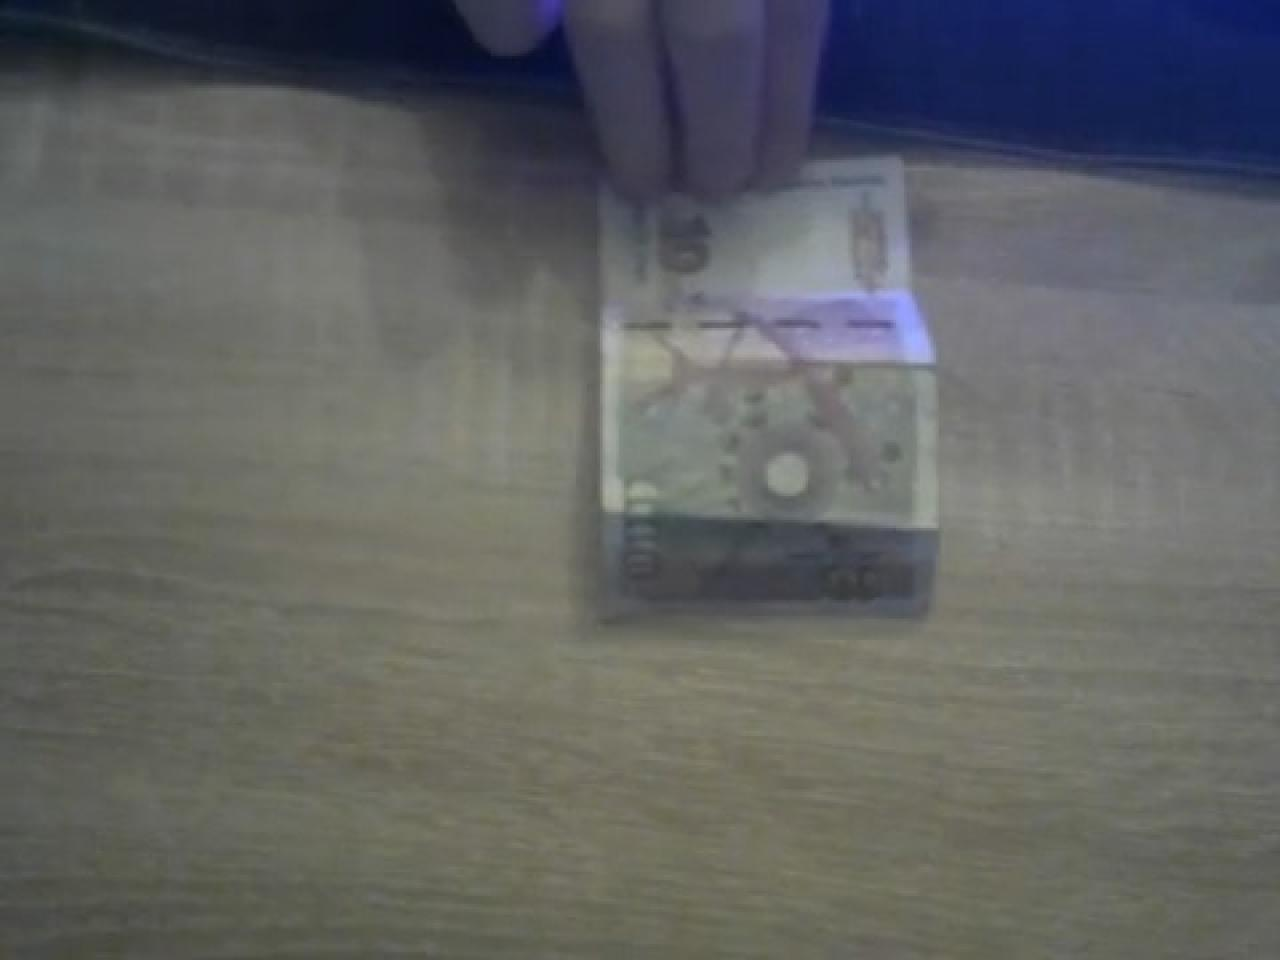10leva: (600, 157, 944, 621)
